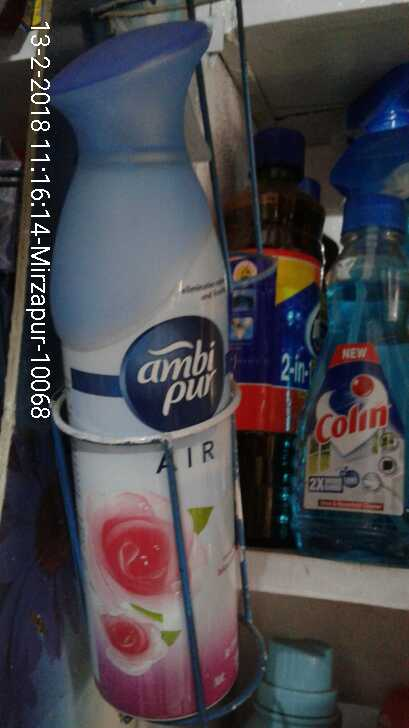ambipure: (58, 12, 272, 719)
